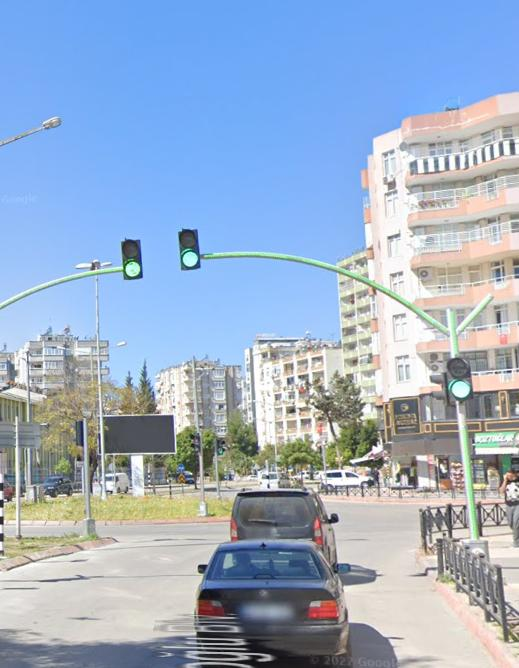greenlight: (446, 357, 472, 402), (177, 227, 203, 270), (120, 238, 143, 279)
